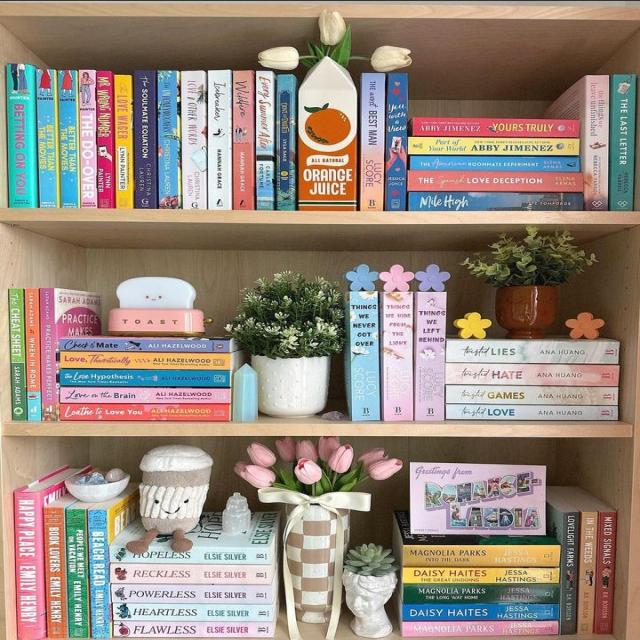book: (344, 291, 379, 421), (7, 63, 38, 208), (14, 491, 44, 636), (380, 292, 413, 421), (413, 292, 446, 420), (445, 363, 618, 385), (447, 340, 619, 362), (446, 384, 618, 405), (180, 71, 206, 209), (404, 544, 560, 567), (359, 73, 385, 210), (407, 171, 584, 191), (156, 71, 181, 209), (208, 70, 232, 209), (111, 564, 273, 584), (110, 583, 270, 603), (37, 69, 60, 208), (232, 71, 255, 210), (412, 117, 580, 136), (45, 508, 69, 640), (611, 74, 634, 210), (410, 192, 582, 210), (113, 603, 273, 622), (66, 508, 89, 640), (134, 71, 156, 208), (385, 73, 407, 210), (275, 74, 297, 210), (586, 76, 608, 210), (88, 510, 111, 638), (58, 70, 79, 208), (110, 546, 270, 564), (410, 138, 579, 155), (403, 585, 559, 603), (255, 71, 275, 210), (60, 370, 231, 386), (61, 352, 230, 368), (61, 387, 230, 403), (411, 156, 578, 172), (446, 405, 618, 420), (61, 404, 230, 419), (402, 567, 558, 583), (97, 71, 115, 208), (116, 74, 134, 208), (114, 622, 274, 637), (41, 288, 59, 420), (9, 289, 27, 420), (402, 605, 558, 620), (25, 288, 42, 421), (80, 70, 96, 208), (597, 512, 614, 633), (402, 622, 559, 635), (63, 338, 229, 349), (562, 512, 576, 634), (580, 512, 594, 633)
flowers: (236, 437, 402, 639), (226, 271, 344, 417)
plants: (461, 228, 596, 338), (342, 544, 397, 637)
